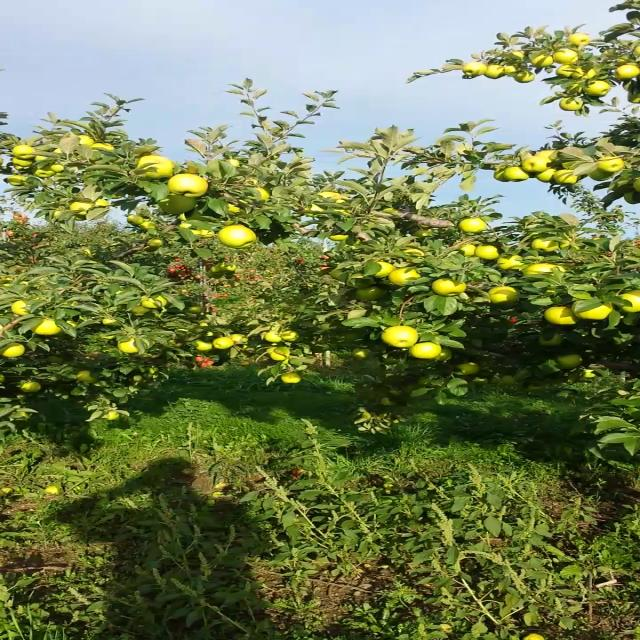apple: (216, 225, 255, 248), (135, 155, 172, 179), (168, 174, 206, 196), (380, 326, 418, 346), (156, 194, 194, 213), (544, 306, 577, 325), (388, 267, 421, 285), (431, 279, 467, 295), (576, 302, 610, 318), (408, 342, 441, 358), (488, 286, 517, 304), (617, 290, 639, 313), (30, 319, 60, 334), (583, 81, 611, 97), (523, 156, 550, 172), (475, 246, 505, 260), (523, 264, 565, 274), (596, 156, 622, 172), (553, 49, 578, 65), (553, 169, 578, 185), (460, 218, 488, 232), (532, 237, 560, 251), (357, 286, 385, 300), (116, 337, 140, 353), (503, 167, 528, 182), (498, 254, 524, 268), (348, 274, 374, 288), (556, 355, 582, 369), (372, 261, 394, 277), (566, 32, 590, 46), (528, 53, 552, 67), (463, 61, 485, 76), (29, 165, 56, 177), (556, 64, 582, 76), (614, 65, 638, 78), (588, 168, 614, 180), (300, 204, 326, 216), (140, 295, 166, 307), (15, 145, 37, 159), (534, 168, 556, 182), (0, 343, 22, 357), (71, 202, 92, 215), (559, 98, 581, 110), (350, 348, 372, 360), (12, 300, 28, 316), (483, 65, 504, 77), (457, 363, 478, 375), (540, 334, 560, 346), (76, 372, 96, 384), (329, 268, 352, 278), (255, 188, 271, 202), (572, 68, 594, 78), (513, 72, 533, 83), (433, 348, 453, 359), (616, 55, 634, 67), (457, 244, 476, 255), (282, 372, 301, 383), (212, 337, 232, 347), (600, 48, 619, 58), (13, 156, 32, 166), (8, 175, 27, 185), (280, 331, 299, 341), (21, 382, 40, 392), (328, 195, 351, 203), (230, 334, 248, 344), (267, 350, 285, 360), (534, 150, 556, 158), (264, 331, 281, 341), (624, 192, 638, 204), (78, 136, 94, 146), (126, 215, 142, 225), (102, 410, 118, 420), (493, 169, 506, 181), (91, 143, 113, 150), (195, 341, 212, 350), (31, 154, 50, 162), (403, 248, 422, 256), (138, 222, 156, 230), (132, 307, 150, 315), (503, 65, 517, 75), (509, 51, 524, 60), (318, 192, 340, 198), (411, 230, 433, 236), (94, 198, 110, 206), (380, 398, 396, 406), (50, 146, 65, 154), (327, 234, 347, 240), (200, 230, 214, 238), (220, 264, 236, 271), (333, 209, 351, 215), (228, 203, 238, 213), (210, 264, 220, 274), (628, 94, 639, 103), (65, 320, 77, 328), (13, 164, 28, 170), (72, 214, 87, 220), (631, 45, 638, 57), (51, 165, 63, 172), (148, 240, 162, 246), (189, 306, 201, 313), (102, 319, 116, 325), (52, 210, 62, 218), (632, 179, 638, 191), (189, 229, 200, 235), (206, 272, 215, 278)
